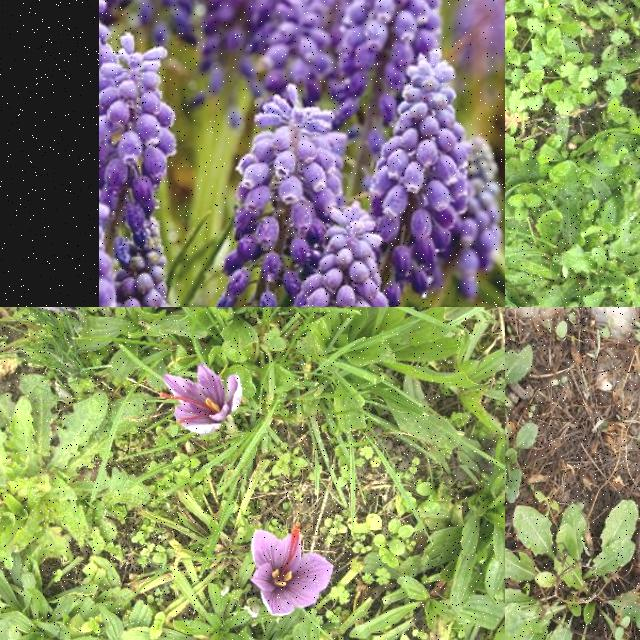flower: (252, 524, 334, 616), (162, 364, 242, 432)
